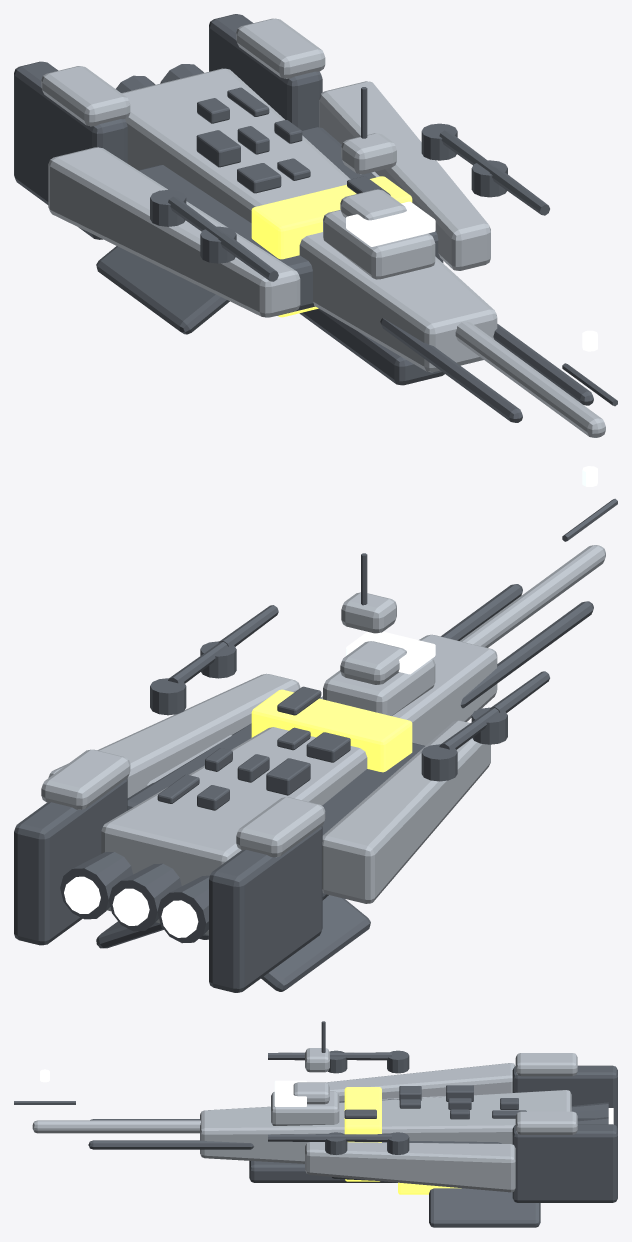
The model's file is se_dreadnought.glb.
The picture shows the model from 3 angles, top to bottom: view 1: azimuth 30°, elevation 25°; view 2: azimuth 150°, elevation 25°; view 3: azimuth 270°, elevation 25°; orthographic projection. The views are drawn at different scales.
Visible parts, largest first — view 1: hull_main, spons_1, spons_-1, brace_1, brace_-1, fin_1, stripe, cargo, prong_c, bridge, brace_top_1, brace_top_-1 (+19 smaller); view 2: hull_main, brace_1, spons_1, brace_-1, spons_-1, stripe, prong_c, fin_1, cargo, brace_top_-1, brace_top_1, bridge (+23 smaller); view 3: hull_main, spons_-1, brace_-1, fin_-1, spons_1, brace_1, prong_c, stripe, bridge, prong_l, keel, brace_top_1 (+17 smaller).
Boxes of the visible parts, x1=… form: hull_main: x1=121, y1=68, x2=497, y2=372; spons_1: x1=48, y1=147, x2=300, y2=317; spons_-1: x1=319, y1=81, x2=490, y2=270; brace_1: x1=14, y1=61, x2=127, y2=239; brace_-1: x1=209, y1=14, x2=322, y2=130; fin_1: x1=96, y1=246, x2=229, y2=334; stripe: x1=251, y1=176, x2=412, y2=317; cargo: x1=138, y1=127, x2=443, y2=315; prong_c: x1=455, y1=321, x2=605, y2=437; bridge: x1=323, y1=210, x2=435, y2=279; brace_top_1: x1=41, y1=66, x2=130, y2=126; brace_top_-1: x1=236, y1=18, x2=325, y2=78; hull_main: x1=101, y1=634, x2=497, y2=934; brace_1: x1=209, y1=826, x2=322, y2=992; spons_1: x1=322, y1=720, x2=490, y2=903; brace_-1: x1=14, y1=778, x2=127, y2=945; spons_-1: x1=48, y1=673, x2=300, y2=797; stripe: x1=251, y1=689, x2=412, y2=772; prong_c: x1=460, y1=545, x2=605, y2=647; fin_1: x1=261, y1=895, x2=370, y2=991; cargo: x1=127, y1=723, x2=424, y2=900; brace_top_-1: x1=41, y1=749, x2=130, y2=809; brace_top_1: x1=236, y1=797, x2=325, y2=857; bridge: x1=323, y1=658, x2=435, y2=715; hull_main: x1=200, y1=1090, x2=571, y2=1163; spons_-1: x1=305, y1=1142, x2=515, y2=1192; brace_-1: x1=512, y1=1124, x2=617, y2=1202; fin_-1: x1=429, y1=1188, x2=540, y2=1227; spons_1: x1=325, y1=1063, x2=514, y2=1101; brace_1: x1=512, y1=1065, x2=617, y2=1128; prong_c: x1=32, y1=1120, x2=200, y2=1133; stripe: x1=344, y1=1087, x2=381, y2=1181; bridge: x1=271, y1=1091, x2=339, y2=1125; prong_l: x1=88, y1=1140, x2=253, y2=1149; keel: x1=249, y1=1160, x2=397, y2=1182; brace_top_1: x1=515, y1=1053, x2=577, y2=1076.
Bounding box in the file's own units: 0.2427 × 0.2066 × 0.6337.
